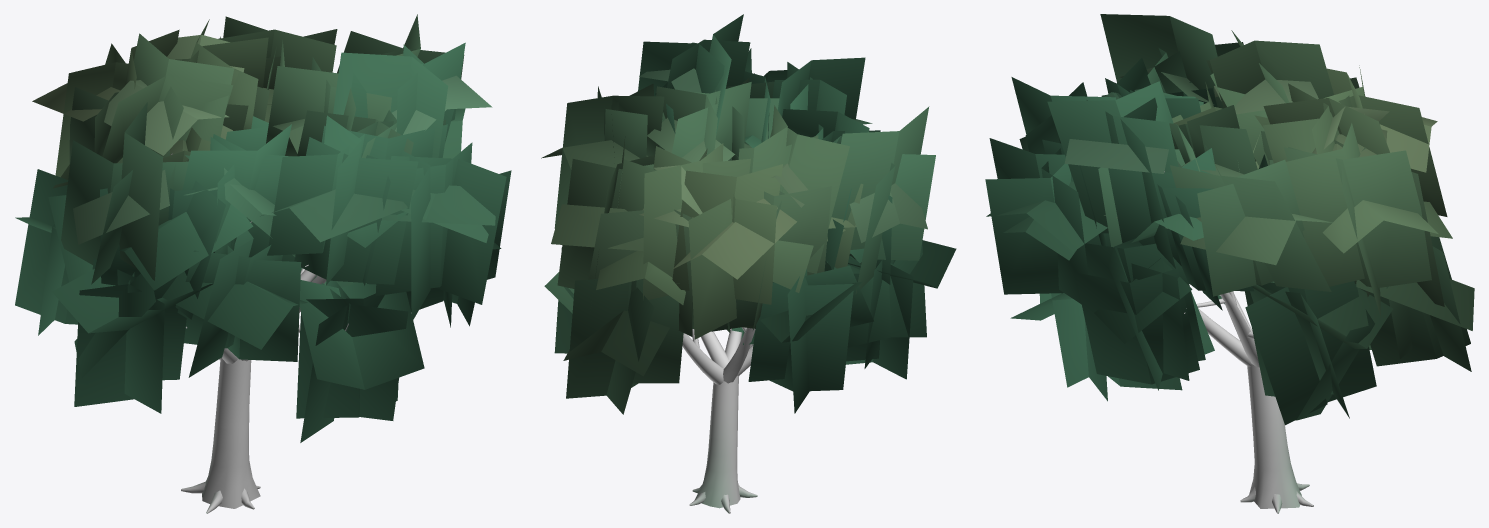
The model's file is island_tree_01_b.glb.
3 renders of one model, left to right at view 1: azimuth 30°, elevation 25°; view 2: azimuth 150°, elevation 25°; view 3: azimuth 270°, elevation 25°, orthographic. The views are drawn at different scales.
Visible parts, largest first — view 1: isl_island_tree_01_b; view 2: isl_island_tree_01_b; view 3: isl_island_tree_01_b.
Boxes of the visible parts, x1=… form: isl_island_tree_01_b: x1=15, y1=14, x2=511, y2=513; isl_island_tree_01_b: x1=541, y1=14, x2=956, y2=513; isl_island_tree_01_b: x1=985, y1=14, x2=1474, y2=513.
Size of the model in its own units: 7.62 by 8.04 by 8.04.
